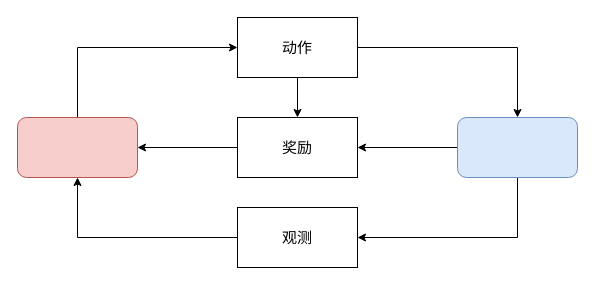
The diagram is 595 pixels wide and 285 high, and some of its shapes have lost their labels. Each missing label, with the centre of its shape:
环境: the point at 517,147
神经网络模型: the point at 77,147
